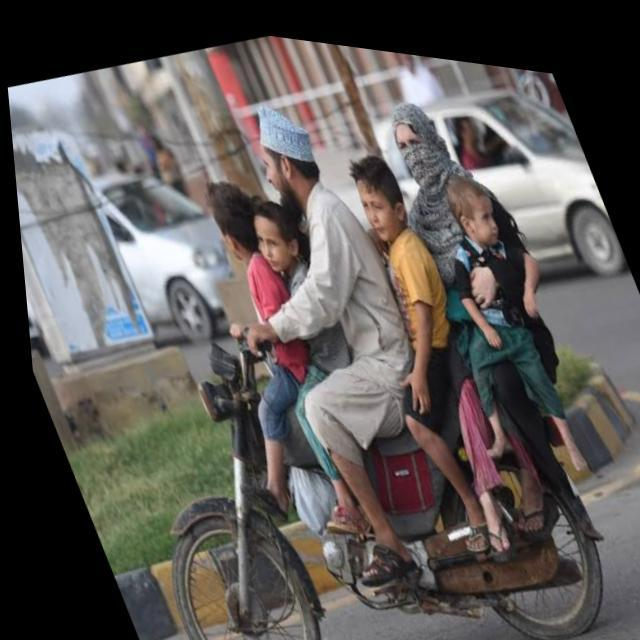Nonhelmet: (196, 173, 262, 263), (348, 153, 407, 240), (246, 193, 305, 275), (446, 176, 508, 249)
